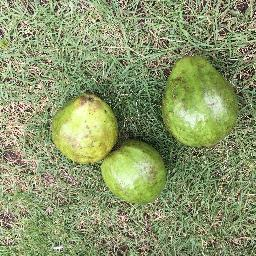Good_guava: (160, 48, 239, 150), (48, 90, 118, 165), (101, 138, 167, 207)
